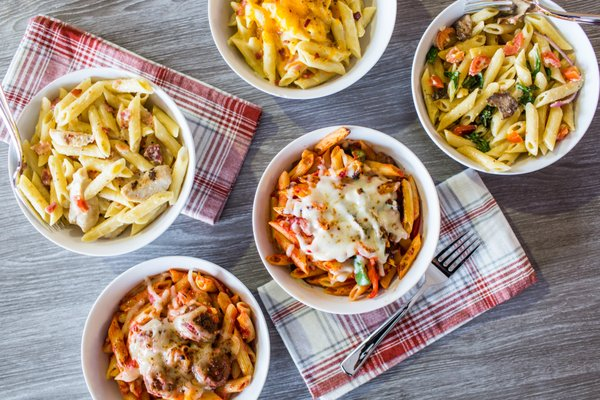burger: (532, 0, 600, 23)
sushi: (251, 124, 442, 314), (6, 66, 195, 257), (411, 0, 600, 175), (79, 256, 271, 397), (206, 0, 398, 100)
